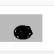correct: (12, 24, 35, 42)
